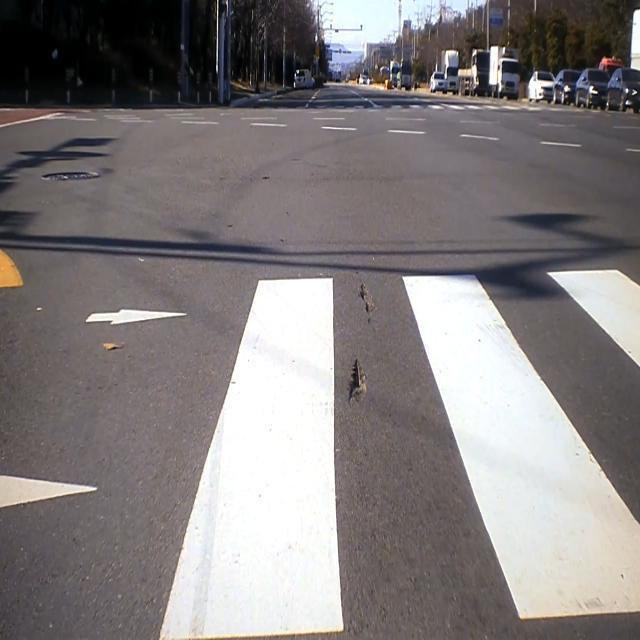pothole: (348, 349, 369, 409), (359, 278, 376, 331)
